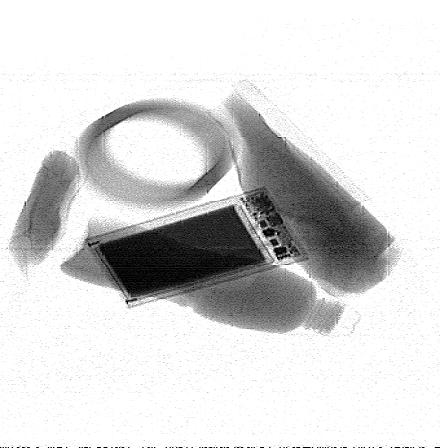Powerbank: (84, 187, 307, 308)
